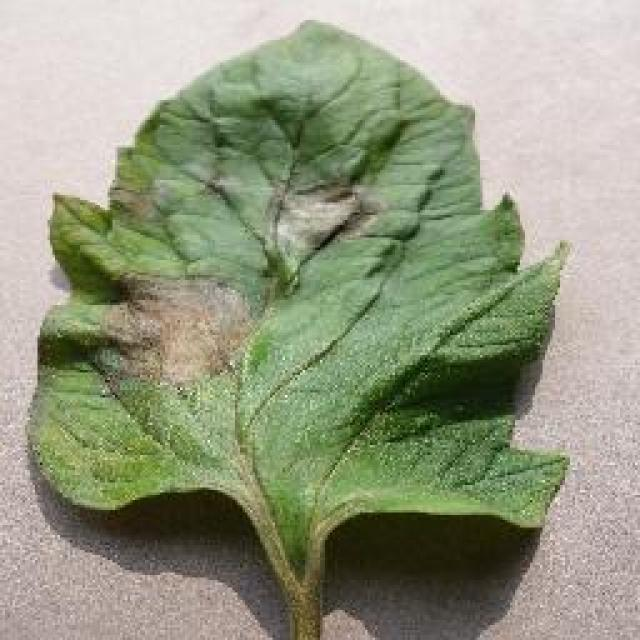Tomato late blight leaf: (25, 20, 570, 565)
